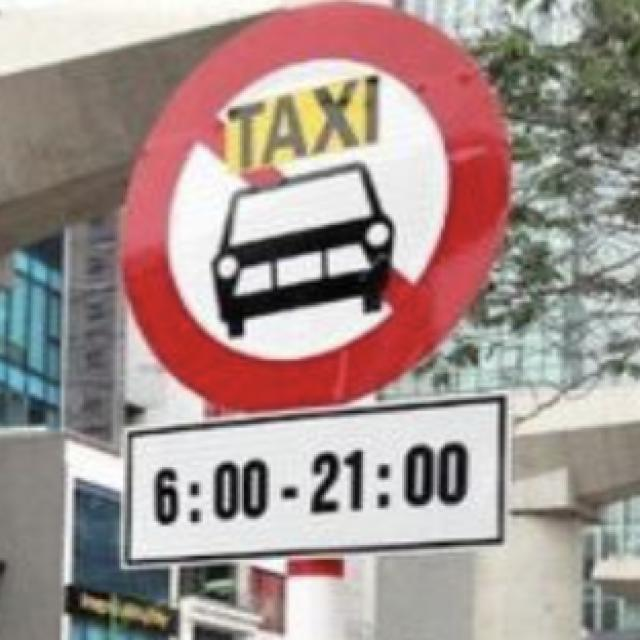103a-cam-oto: (117, 0, 515, 408)
